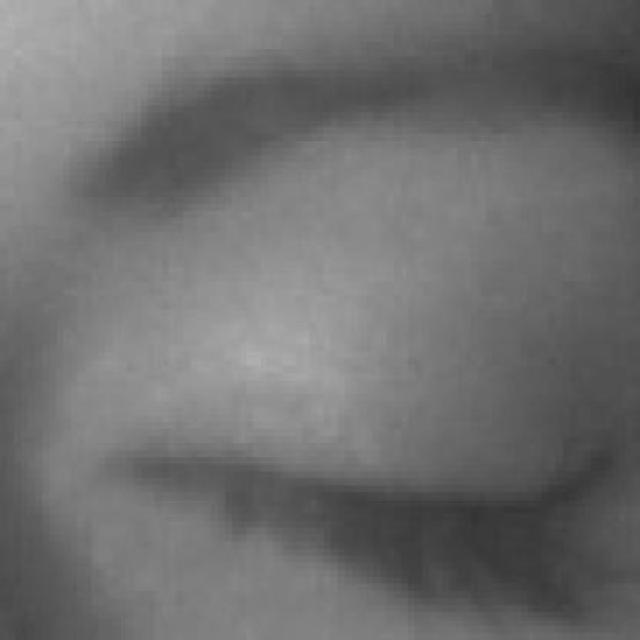drowsy: (106, 241, 608, 640)
